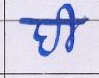i_matra: (60, 4, 78, 52)
